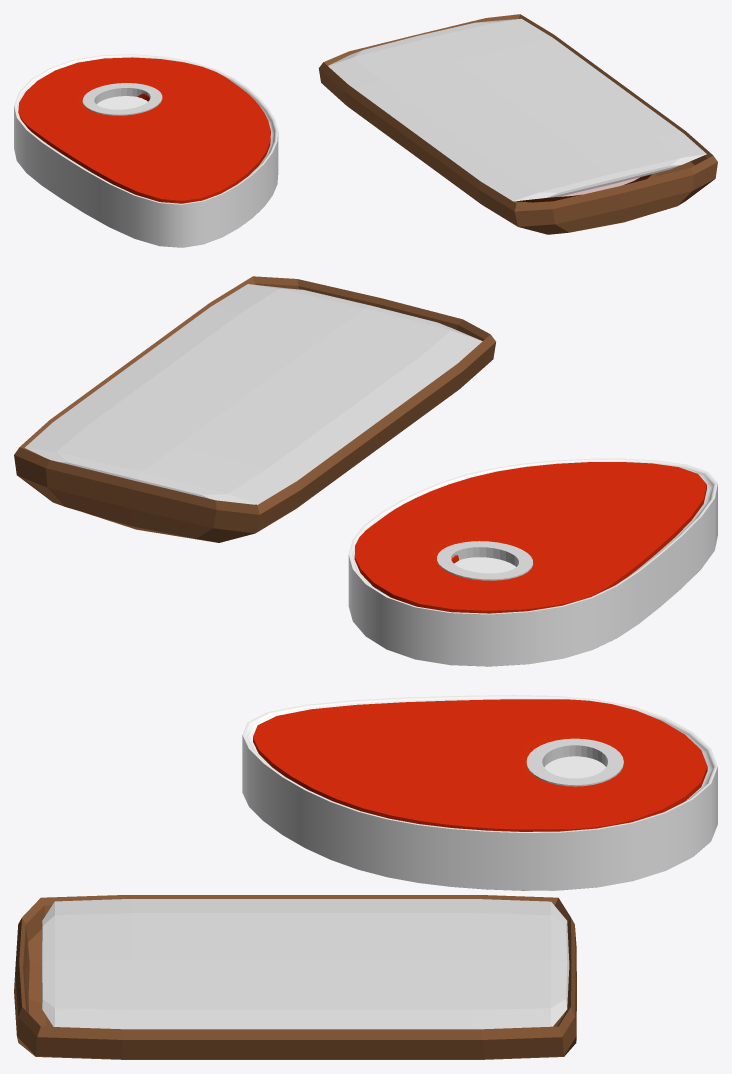
File: Food.fbx
3 renders of one model, top to bottom at view 1: azimuth 30°, elevation 25°; view 2: azimuth 150°, elevation 25°; view 3: azimuth 270°, elevation 25°, orthographic. The views are drawn at different scales.
Parts seen in each view (by area): view 1: Wrapper transparent, Meat, Outer Shell, Bottom Package, Inner Bone, Ham; view 2: Wrapper transparent, Meat, Outer Shell, Bottom Package, Inner Bone; view 3: Wrapper transparent, Meat, Outer Shell, Bottom Package, Inner Bone.
Part boxes in pixels (x1,y1,x2,y2): Wrapper transparent: [328, 18, 706, 201]; Meat: [18, 57, 270, 203]; Outer Shell: [14, 54, 278, 247]; Bottom Package: [318, 14, 717, 234]; Inner Bone: [82, 83, 162, 115]; Ham: [517, 174, 651, 202]; Wrapper transparent: [25, 284, 482, 504]; Meat: [354, 462, 706, 613]; Outer Shell: [348, 458, 717, 666]; Bottom Package: [14, 276, 495, 542]; Inner Bone: [437, 541, 533, 580]; Wrapper transparent: [41, 899, 569, 1029]; Meat: [253, 699, 707, 831]; Outer Shell: [242, 695, 717, 890]; Bottom Package: [14, 895, 576, 1059]; Inner Bone: [526, 738, 623, 786].
Size of what is drawn, in the model's own units: 78.23 by 7.43 by 70.66.
